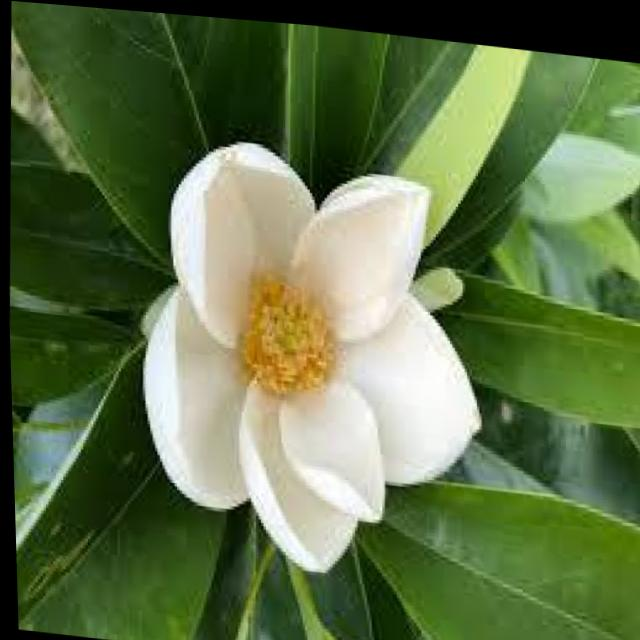Flower: (127, 123, 485, 570)
